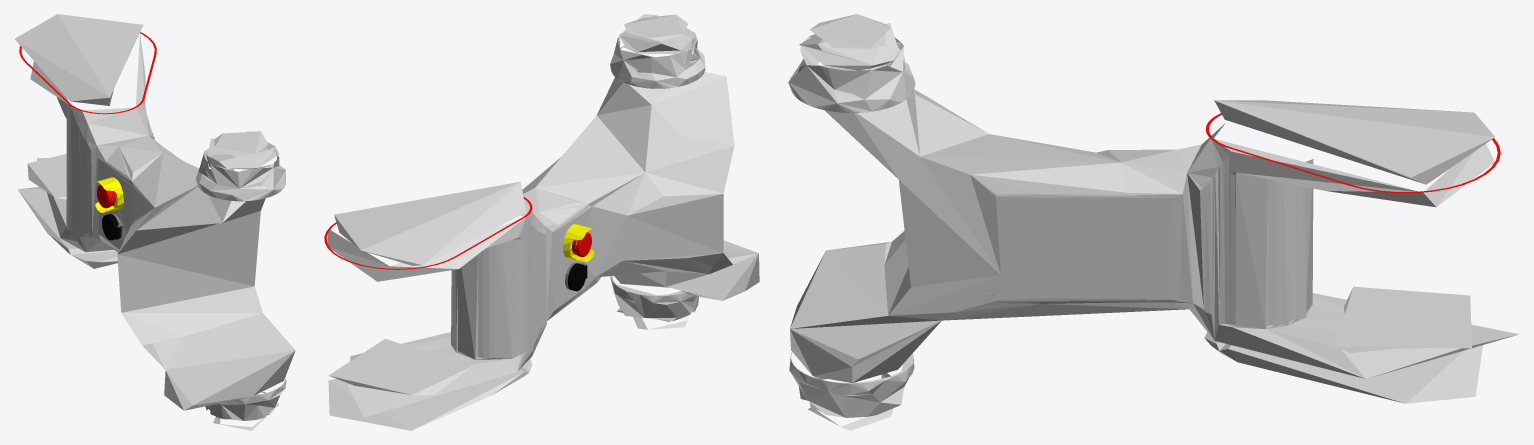
Rendered from torso_l3.glb.
The picture shows the model from 3 angles, left to right: view 1: azimuth 30°, elevation 25°; view 2: azimuth 150°, elevation 25°; view 3: azimuth 270°, elevation 25°; orthographic projection. The views are drawn at different scales.
Bounding box in the file's own units: 0.2626 × 0.3397 × 0.5892.
